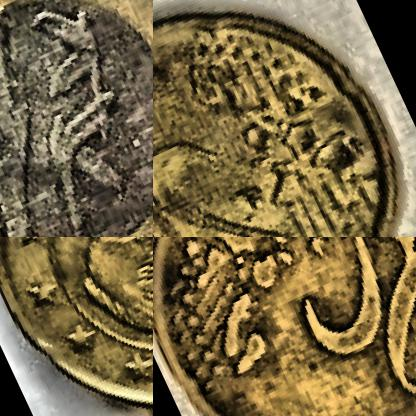coin: (153, 0, 415, 236), (153, 237, 415, 415), (0, 0, 152, 236), (0, 237, 152, 415)
